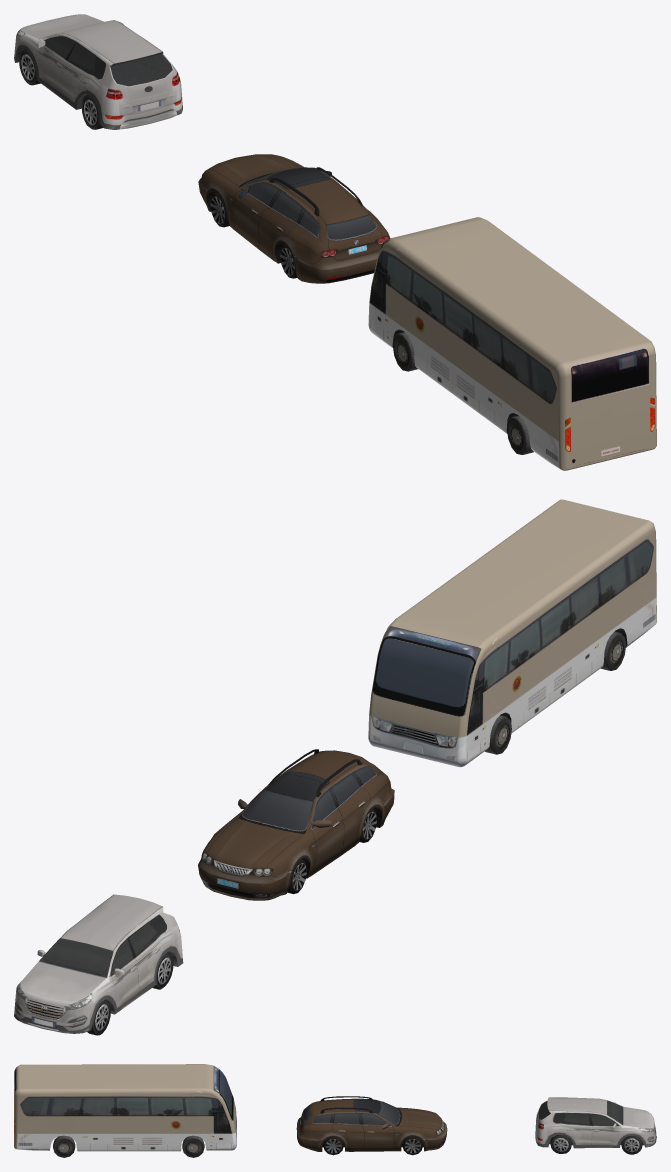
Rendered from che.fbx.
3 renders of one model, top to bottom at view 1: azimuth 30°, elevation 25°; view 2: azimuth 150°, elevation 25°; view 3: azimuth 270°, elevation 25°, orthographic. The views are drawn at different scales.
Visible parts, largest first — view 1: che_3, che_2, che_1, che_3LunZi_3, che_3LunZi_2; view 2: che_3, che_2, che_1; view 3: che_3, che_2, che_1, che_3LunZi_4, che_3LunZi_1, che_1LunZi_2, che_1LunZi_1, che_2LunZi_2, che_2LunZi_3.
Boxes of the visible parts, box(x1,y1,x2,y2) form: che_3: box(368, 217, 656, 470); che_2: box(198, 154, 390, 283); che_1: box(14, 14, 182, 129); che_3LunZi_3: box(507, 415, 533, 454); che_3LunZi_2: box(393, 332, 418, 371); che_3: box(368, 499, 656, 767); che_2: box(198, 749, 394, 900); che_1: box(14, 894, 183, 1033); che_3: box(14, 1064, 236, 1151); che_2: box(296, 1096, 447, 1151); che_1: box(535, 1097, 656, 1148); che_3LunZi_4: box(182, 1135, 204, 1157); che_3LunZi_1: box(53, 1135, 75, 1157); che_1LunZi_2: box(550, 1135, 571, 1153); che_1LunZi_1: box(621, 1136, 642, 1154); che_2LunZi_2: box(402, 1136, 422, 1155); che_2LunZi_3: box(323, 1137, 343, 1155).
Bounding box in the file's own units: 247 × 282 × 2409.
